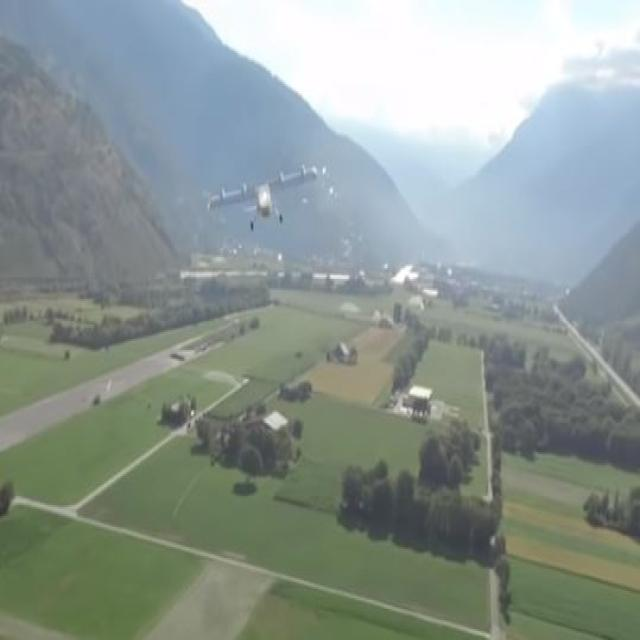iha: (231, 190, 286, 194)
